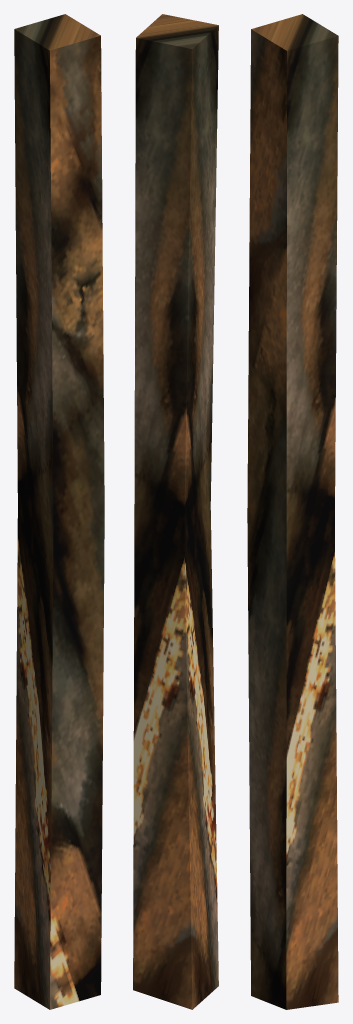
File: ColdZone_Log_S_2.gltf
3 views of the same model, side by side, from view 1: azimuth 90°, elevation 25°; view 2: azimuth 210°, elevation 25°; view 3: azimuth 270°, elevation 25° (orthographic).
Parts seen in each view (by area): view 1: ColdZone_Log_S_2; view 2: ColdZone_Log_S_2; view 3: ColdZone_Log_S_2.
Part boxes in pixels (bbox=[...]): ColdZone_Log_S_2: bbox=[14, 14, 104, 1009]; ColdZone_Log_S_2: bbox=[133, 14, 218, 1009]; ColdZone_Log_S_2: bbox=[247, 14, 338, 1009].
Bounding box in the file's own units: 0.9686 × 11.44 × 0.9768.
Materials: 1 (1 with a texture image).
